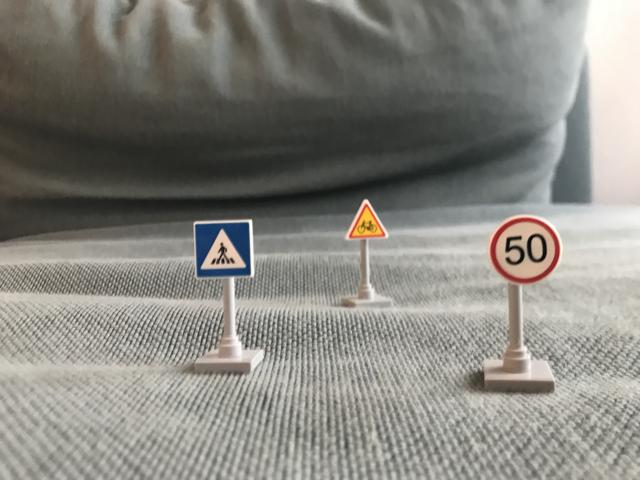fußgängerüberweg: (193, 220, 254, 278)
radfahrer: (341, 197, 391, 245)
tempolimit 50: (487, 216, 565, 284)
